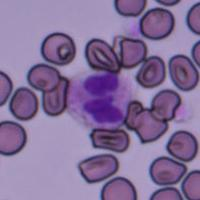N: (64, 70, 134, 130)
